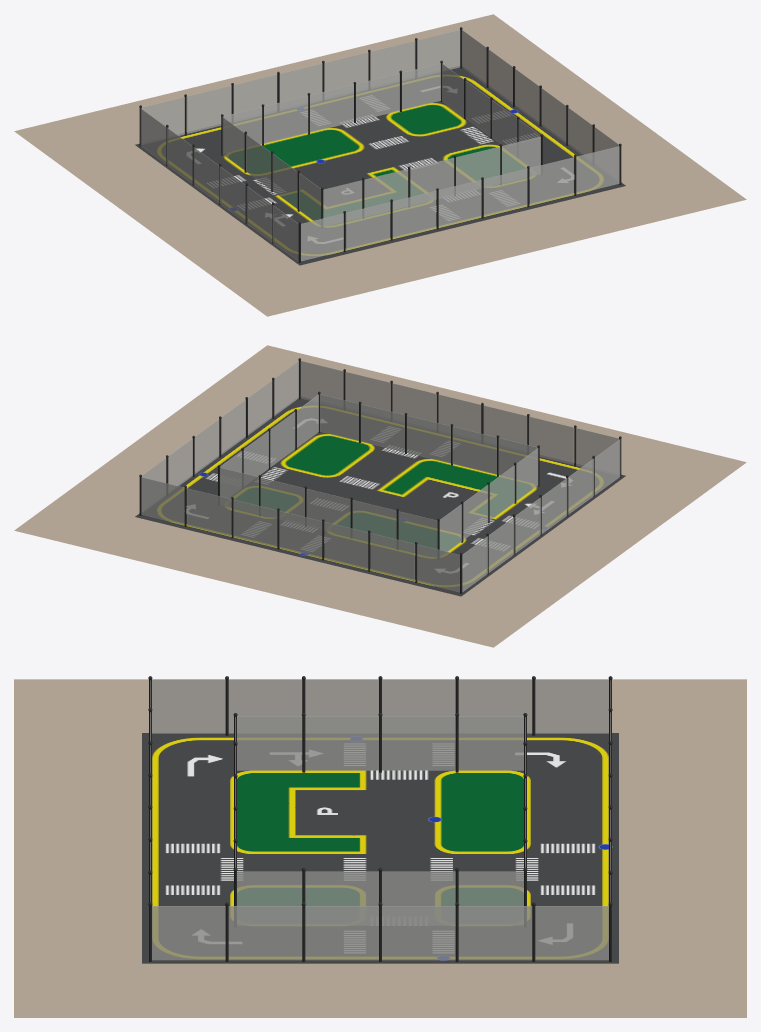
Rendered from track-v2.glb.
3 views of the same model, one above another, from view 1: azimuth 30°, elevation 25°; view 2: azimuth 150°, elevation 25°; view 3: azimuth 270°, elevation 25° (orthographic). The views are drawn at different scales.
Parts seen in each view (by area): view 1: Floor, Mat, Panel-25, Panel-21, Panel-22, Panel-32, Panel-24, Panel-34, Panel-20, Panel-33, Panel-23, Panel-8 (+34 smaller); view 2: Floor, Mat, Panel-8, Panel-12, Panel-11, Panel-43, Panel-9, Panel-41, Panel-13, Panel-42, Panel-10, Panel-25 (+34 smaller); view 3: Floor, Mat, Panel-15, Panel-18, Panel-1, Panel-6, Panel-14, Panel-16, Panel-17, Panel-19, Panel-28, Panel-29 (+10 smaller).
Part boxes in pixels (left/top/right/bottom): Floor: left=14, top=14, right=746, bottom=316; Mat: left=135, top=66, right=625, bottom=265; Panel-25: left=346, top=202, right=390, bottom=250; Panel-21: left=529, top=157, right=573, bottom=205; Panel-22: left=483, top=169, right=527, bottom=216; Panel-32: left=264, top=95, right=308, bottom=143; Panel-24: left=392, top=191, right=436, bottom=238; Panel-34: left=356, top=73, right=399, bottom=121; Panel-20: left=576, top=146, right=619, bottom=194; Panel-33: left=310, top=84, right=353, bottom=132; Panel-23: left=438, top=180, right=481, bottom=227; Panel-8: left=187, top=85, right=231, bottom=133; Floor: left=14, top=345, right=746, bottom=647; Mat: left=135, top=397, right=625, bottom=596; Panel-8: left=370, top=533, right=414, bottom=581; Panel-12: left=187, top=488, right=231, bottom=536; Panel-11: left=233, top=500, right=277, bottom=547; Panel-43: left=452, top=426, right=496, bottom=474; Panel-9: left=324, top=522, right=368, bottom=569; Panel-41: left=361, top=404, right=404, bottom=452; Panel-13: left=141, top=477, right=184, bottom=525; Panel-42: left=407, top=415, right=450, bottom=463; Panel-10: left=279, top=511, right=322, bottom=558; Panel-25: left=529, top=416, right=573, bottom=464; Floor: left=14, top=679, right=746, bottom=1017; Mat: left=142, top=733, right=618, bottom=963; Panel-15: left=458, top=906, right=532, bottom=960; Panel-18: left=228, top=906, right=302, bottom=960; Panel-1: left=152, top=679, right=225, bottom=733; Panel-6: left=535, top=679, right=608, bottom=733; Panel-14: left=535, top=906, right=608, bottom=960; Panel-16: left=382, top=906, right=455, bottom=960; Panel-17: left=305, top=906, right=378, bottom=960; Panel-19: left=152, top=906, right=225, bottom=960; Panel-28: left=305, top=716, right=378, bottom=770; Panel-29: left=382, top=716, right=455, bottom=770.
Size of the model in its own units: 4.7 by 0.383 by 4.3.
Materials: 4 (1 with a texture image).
